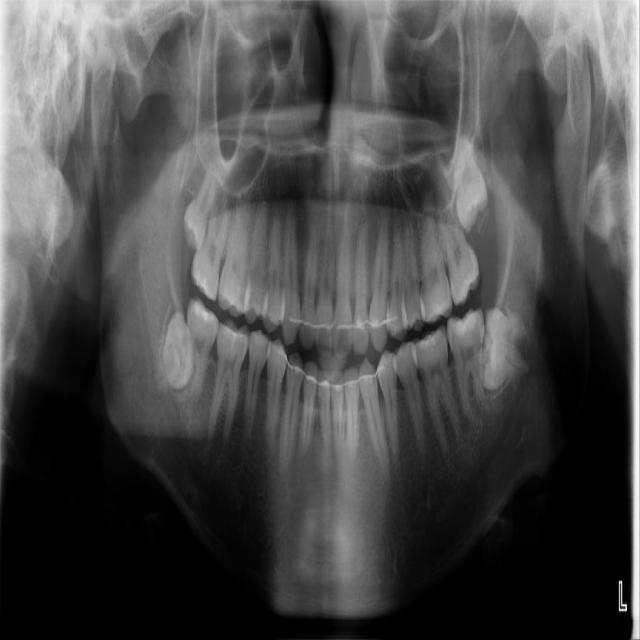3M ESPE Implant: (175, 153, 226, 253)
52: (170, 294, 232, 355), (177, 245, 230, 304), (405, 324, 460, 379), (204, 316, 254, 371), (443, 304, 490, 361), (216, 263, 253, 318), (417, 272, 454, 324)
73: (618, 620, 628, 630)
BioHorizons Implant: (433, 184, 485, 307)
BioLife Implant: (455, 133, 488, 235)
Biomet 3i Implant: (476, 307, 530, 391)
Blue Sky Bio Implant: (445, 304, 492, 425)
Caries: (185, 181, 239, 303)
Implant: (182, 295, 220, 400)
Keystone Dental Implant: (148, 310, 210, 400)
